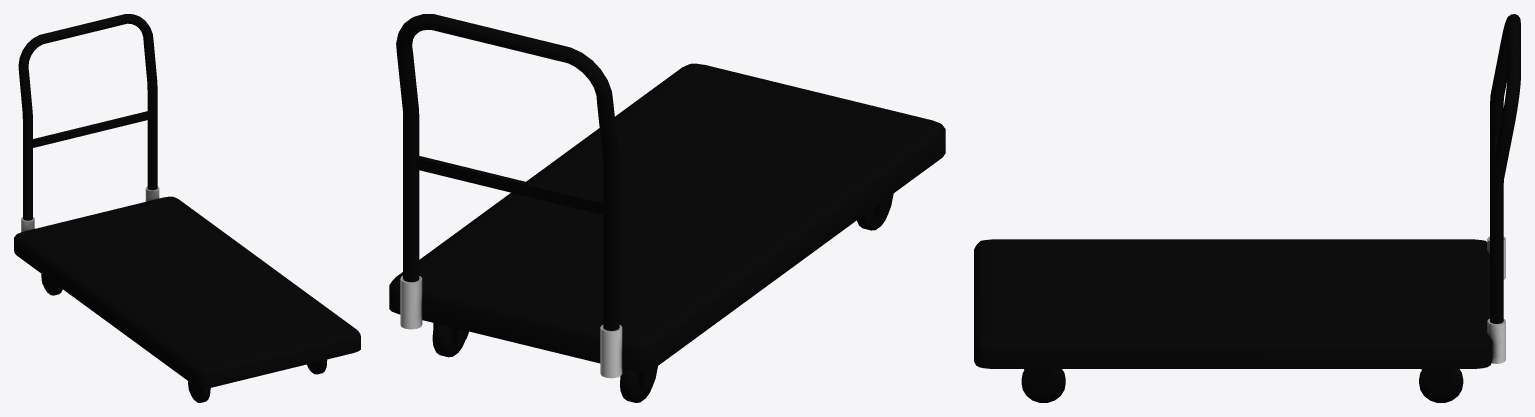
The picture shows the model from 3 angles, left to right: view 1: azimuth 30°, elevation 25°; view 2: azimuth 150°, elevation 25°; view 3: azimuth 270°, elevation 25°; orthographic projection. The views are drawn at different scales.
Parts seen in each view (by area): view 1: body0_model0_lod0_mesh0; view 2: body0_model0_lod0_mesh0; view 3: body0_model0_lod0_mesh0.
Boxes of the visible parts, x1,y1,x2,y2 form: body0_model0_lod0_mesh0: [14, 14, 360, 402]; body0_model0_lod0_mesh0: [389, 14, 945, 402]; body0_model0_lod0_mesh0: [974, 14, 1520, 402].
Size of the model in its own units: 45.92 by 62.65 by 97.55.
1 material, 1 textured.
